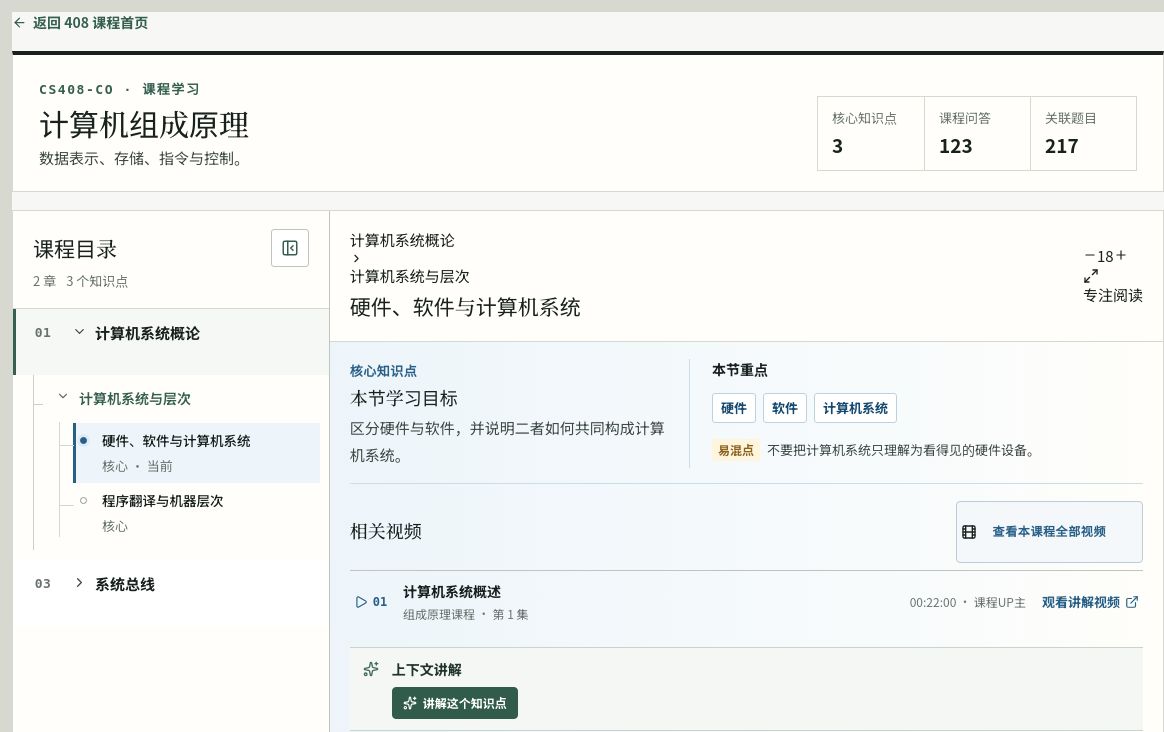
Test: ComputerOrganizationPage › renders one primary and collapsible related figures from the selected concept
Click the button named "收起课程目录" at {"x": 290, "y": 248}, box [271, 229, 309, 267]
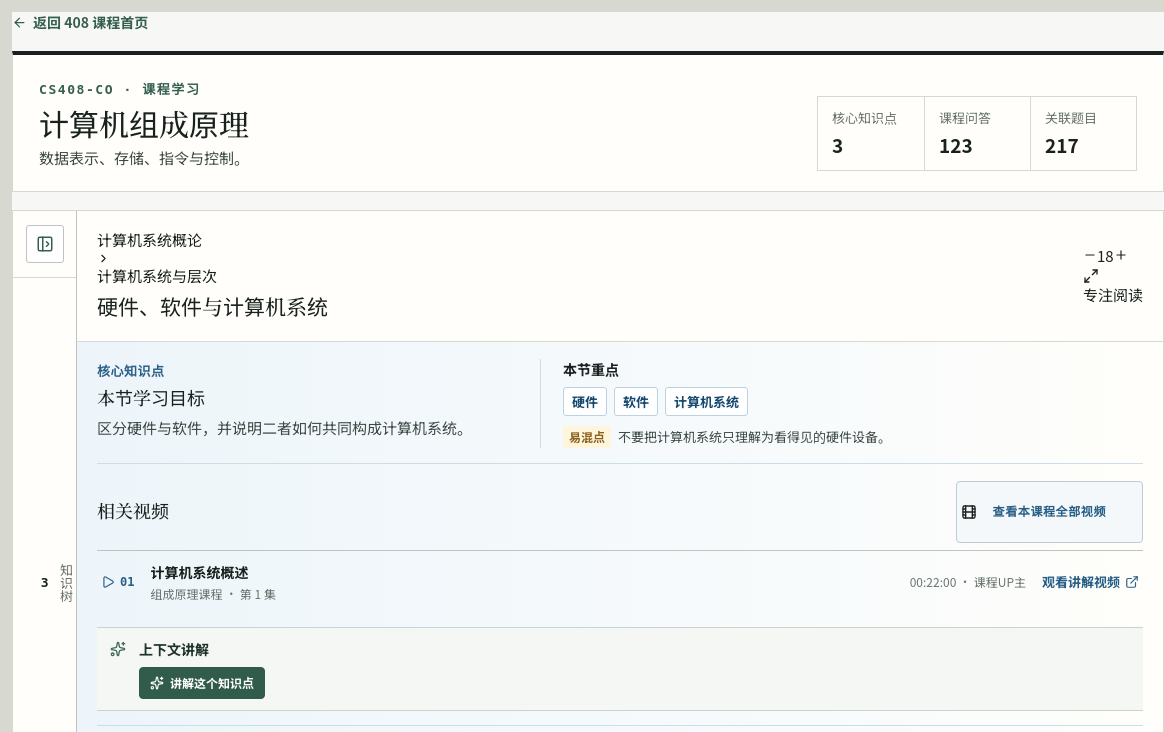
Result: the button named "展开课程目录" is shown at [26, 225, 64, 263]
